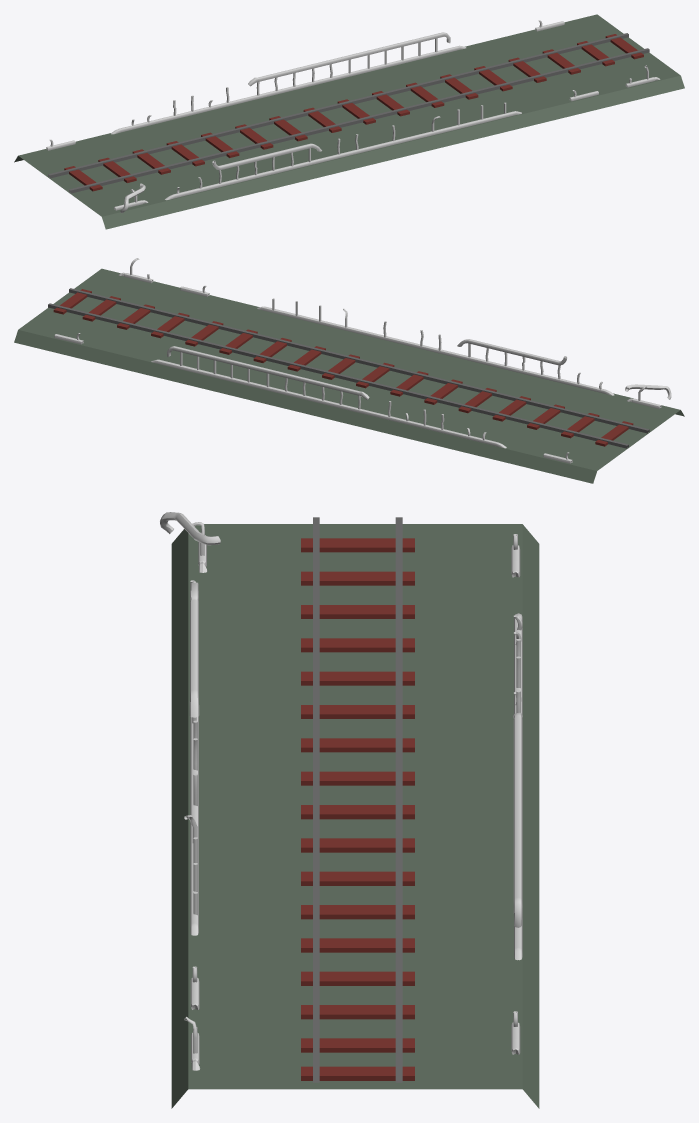
3 views of the same model, one above another, from view 1: azimuth 30°, elevation 25°; view 2: azimuth 150°, elevation 25°; view 3: azimuth 270°, elevation 25° (orthographic). The views are drawn at different scales.
Parts seen in each view (by area): view 1: pCube606; view 2: pCube606; view 3: pCube606.
Boxes of the visible parts, x1,y1,x2,y2 form: pCube606: [14, 14, 684, 229]; pCube606: [14, 258, 684, 483]; pCube606: [160, 512, 539, 1108].
Size of the model in its own units: 200 by 12.08 by 56.72.
